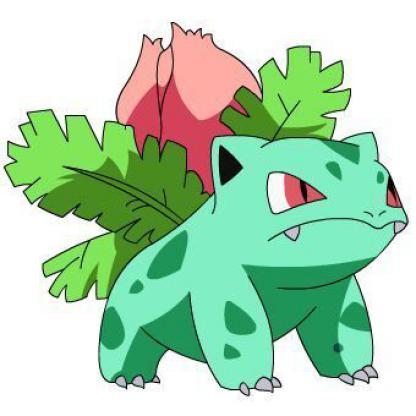Ivysaur: (1, 37, 416, 393)
